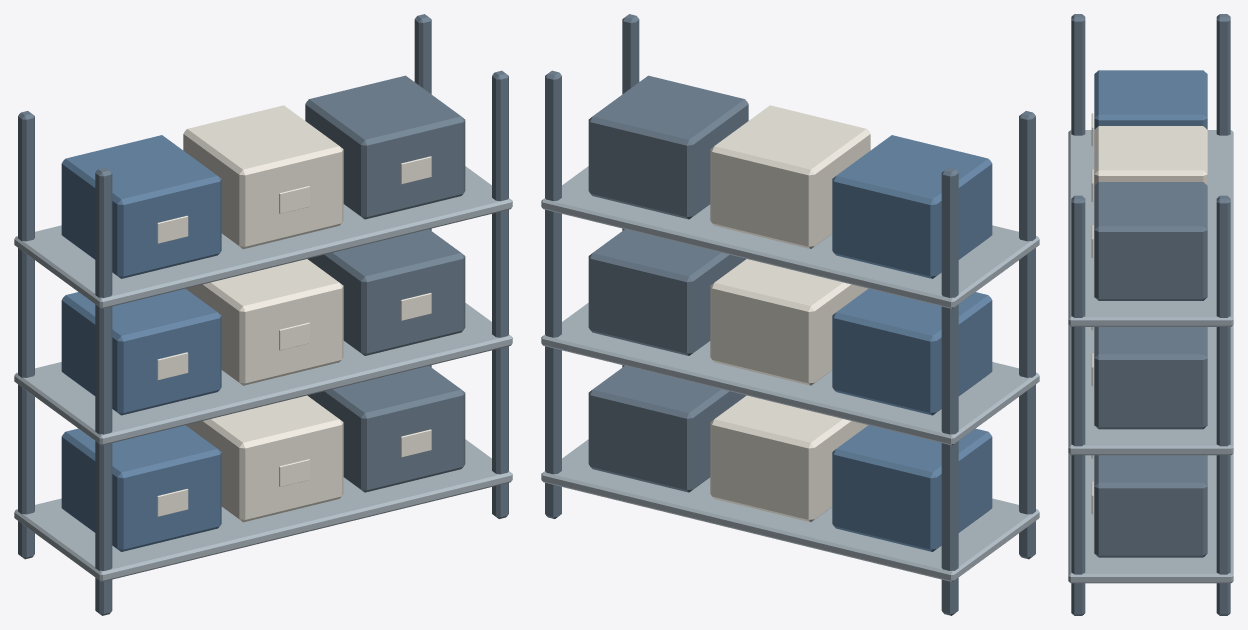
File: logistics_01.glb
3 views of the same model, side by side, from view 1: azimuth 30°, elevation 25°; view 2: azimuth 150°, elevation 25°; view 3: azimuth 270°, elevation 25° (orthographic). The views are drawn at different scales.
Parts seen in each view (by area): view 1: CargoBox (×9), Shelf (×3), Leg (×4), CargoLabel (×9); view 2: CargoBox (×9), Shelf (×3), Leg (×4); view 3: CargoBox (×5), Shelf (×3), Leg (×4).
Boxes of the visible parts, x1=… form: CargoBox (×9): x1=61, y1=75, x2=465, y2=551; Shelf (×3): x1=14, y1=166, x2=512, y2=581; Leg (×4): x1=18, y1=14, x2=508, y2=615; CargoLabel (×9): x1=157, y1=156, x2=431, y2=516; CargoBox (×9): x1=588, y1=75, x2=992, y2=551; Shelf (×3): x1=541, y1=166, x2=1039, y2=581; Leg (×4): x1=545, y1=14, x2=1035, y2=615; CargoBox (×5): x1=1094, y1=70, x2=1207, y2=557; Shelf (×3): x1=1068, y1=130, x2=1233, y2=583; Leg (×4): x1=1071, y1=14, x2=1230, y2=615.
Bounding box in the file's own units: 1.9 × 1.95 × 0.7.
